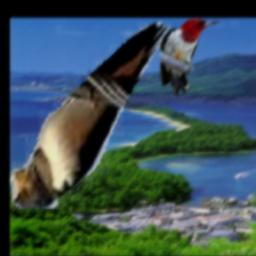Swallow: (10, 23, 171, 210)
Woodpecker: (160, 18, 220, 96)
